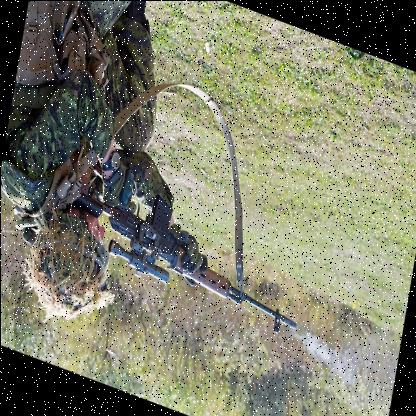rifle: (61, 154, 312, 338)
